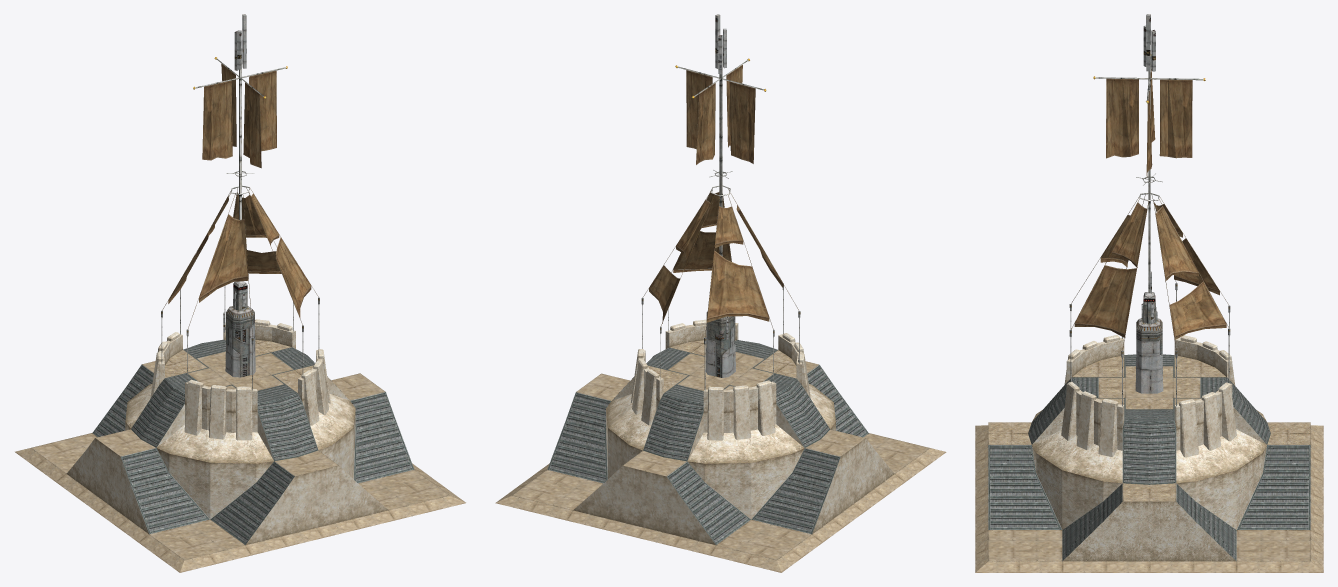
File: ply_tato_bank_s01_l1.fbx
The picture shows the model from 3 angles, left to right: view 1: azimuth 30°, elevation 25°; view 2: azimuth 150°, elevation 25°; view 3: azimuth 270°, elevation 25°; orthographic projection. The views are drawn at different scales.
Visible parts, largest first — view 1: mesh_node; view 2: mesh_node; view 3: mesh_node.
Part boxes in pixels (x1,y1,x2,y2): mesh_node: [15, 14, 465, 572]; mesh_node: [495, 14, 946, 572]; mesh_node: [975, 14, 1323, 572].
Bounding box in the file's own units: 16 × 24.64 × 16.
